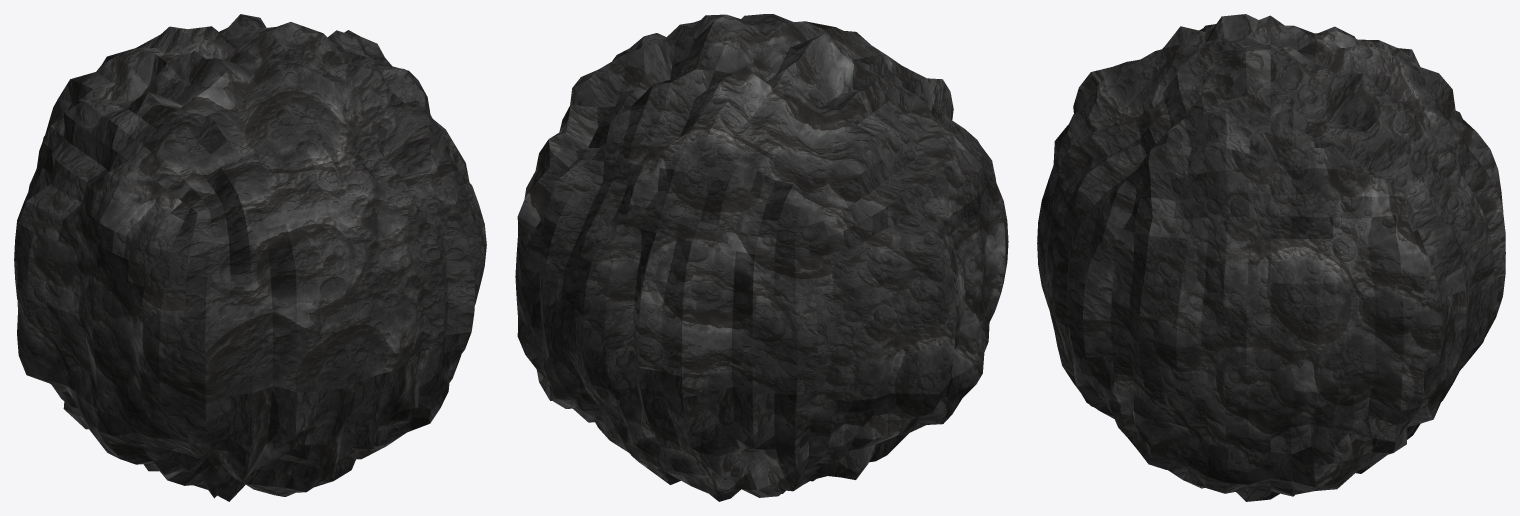
File: asteroid151.obj
The picture shows the model from 3 angles, left to right: view 1: azimuth 30°, elevation 25°; view 2: azimuth 150°, elevation 25°; view 3: azimuth 270°, elevation 25°; orthographic projection.
Parts seen in each view (by area): view 1: Cube_Cube.002; view 2: Cube_Cube.002; view 3: Cube_Cube.002.
Boxes of the visible parts, x1,y1,x2,y2 form: Cube_Cube.002: (14, 14, 486, 501); Cube_Cube.002: (515, 14, 1008, 501); Cube_Cube.002: (1037, 14, 1505, 501).
Bounding box in the file's own units: 1.77 × 1.84 × 1.73.
